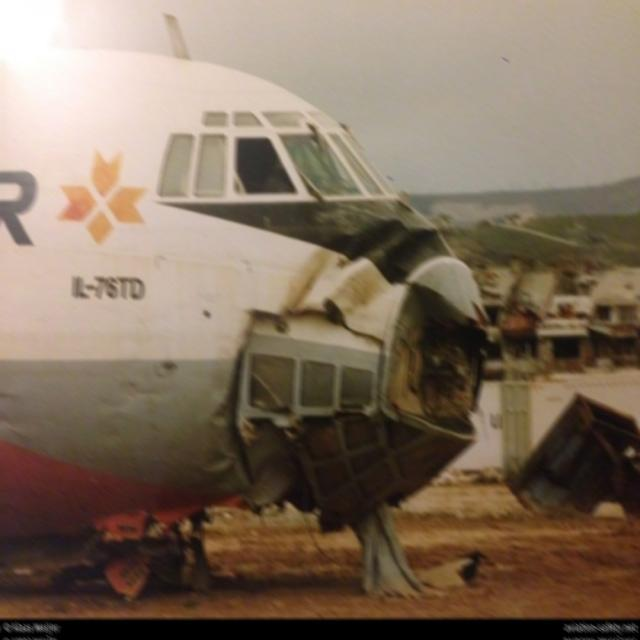dent: (201, 404, 236, 472)
